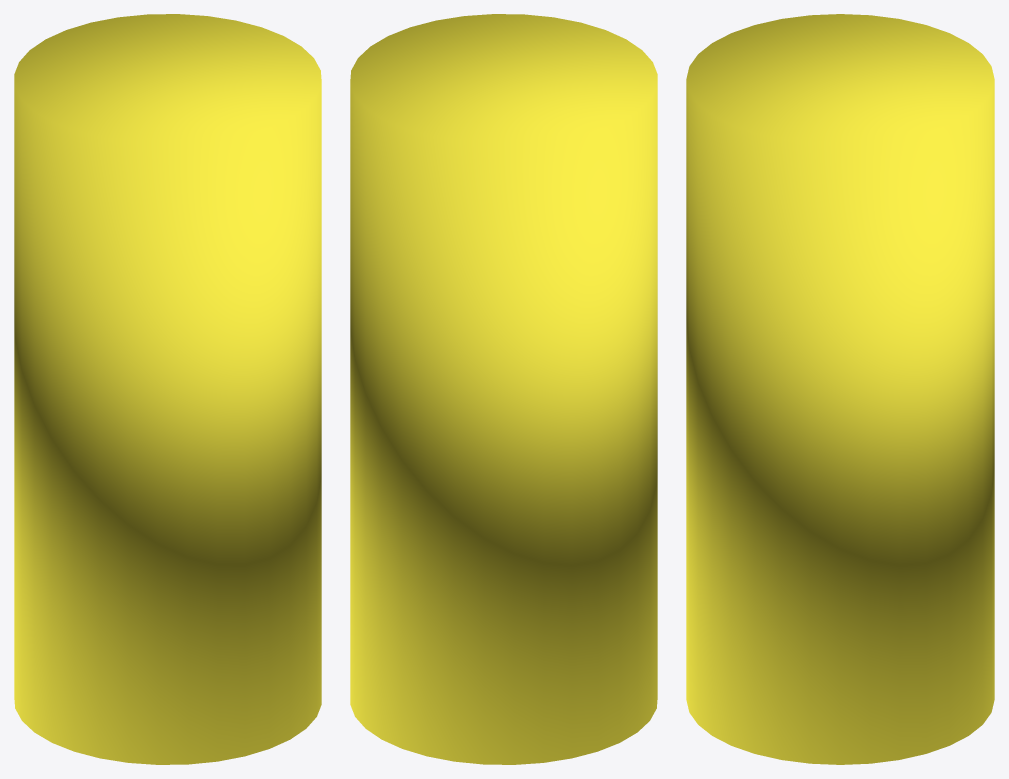
File: GT3_CoilSpring_FL.glb
The picture shows the model from 3 angles, left to right: view 1: azimuth 30°, elevation 25°; view 2: azimuth 150°, elevation 25°; view 3: azimuth 270°, elevation 25°; orthographic projection.
Parts seen in each view (by area): view 1: GT3_CoilSpring_FL; view 2: GT3_CoilSpring_FL; view 3: GT3_CoilSpring_FL.
Boxes of the visible parts, x1,y1,x2,y2 form: GT3_CoilSpring_FL: (14, 14, 321, 764); GT3_CoilSpring_FL: (350, 14, 657, 764); GT3_CoilSpring_FL: (686, 14, 994, 764).
Bounding box in the file's own units: 0.09 × 0.2 × 0.09.
